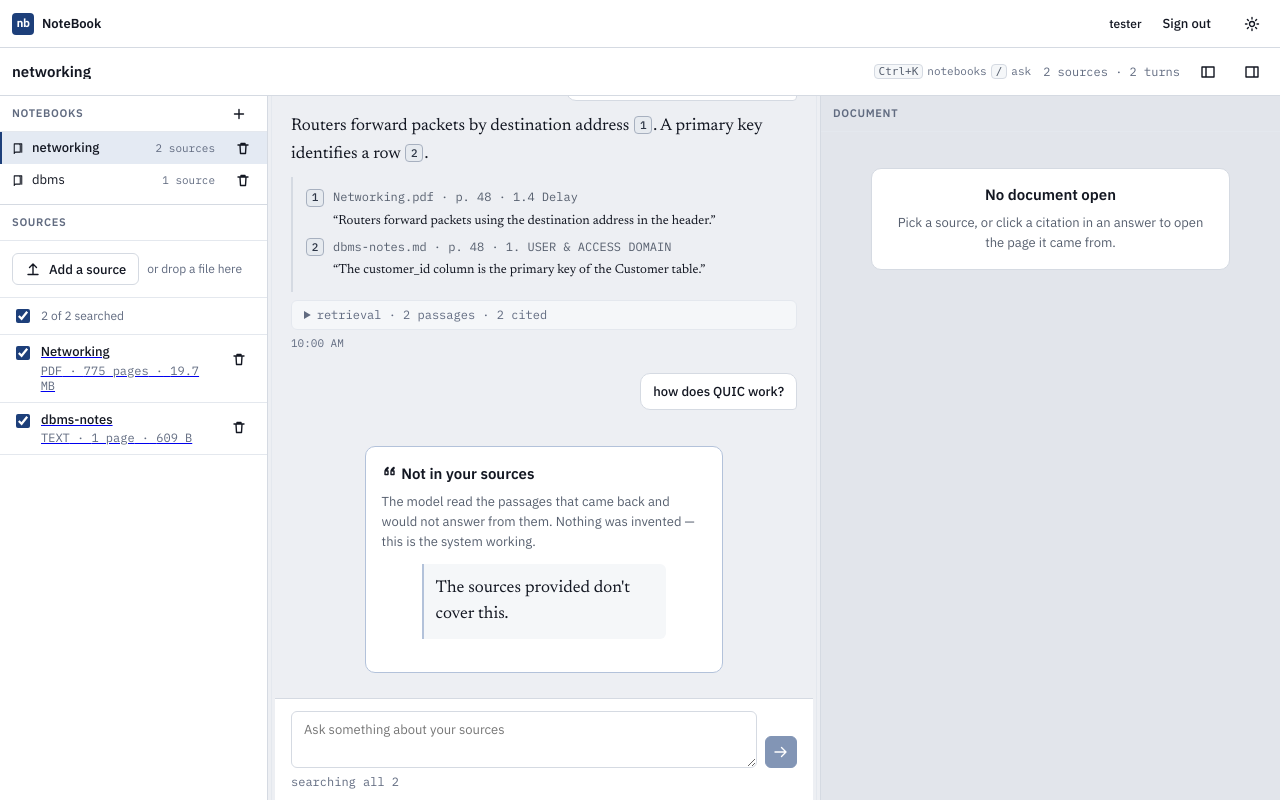
Test: asking a question › keeps the typed question and offers a retry when the request fails
The width and height of the screenshot is (1280, 800).
(page scrolled)
Expected: the text "2 of 2 searched" is shown, [41, 310, 124, 322]
Step 1. Type "this will fail" into the text box named "Your question" → [524, 740], box [291, 711, 757, 768]
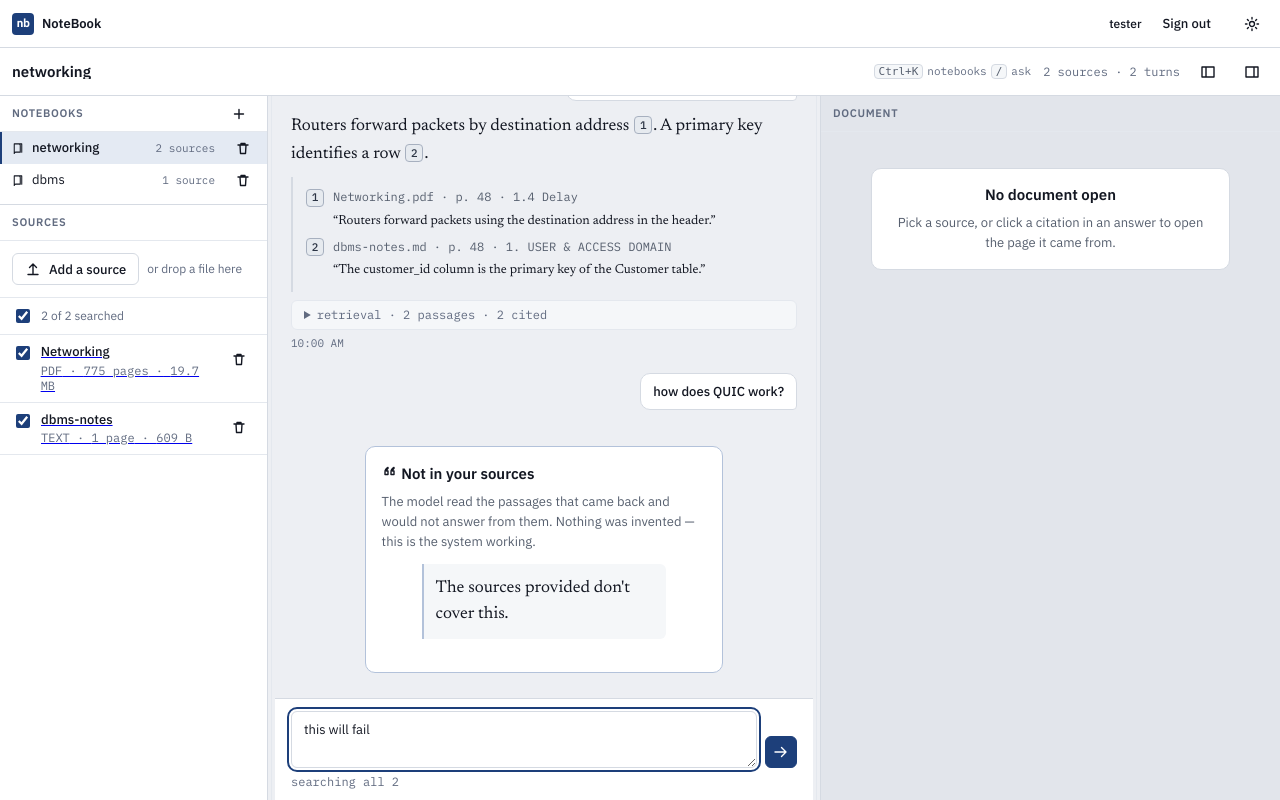
Step 2. Click the button named "Send" → [781, 752], box [765, 736, 797, 768]
(page scrolled)
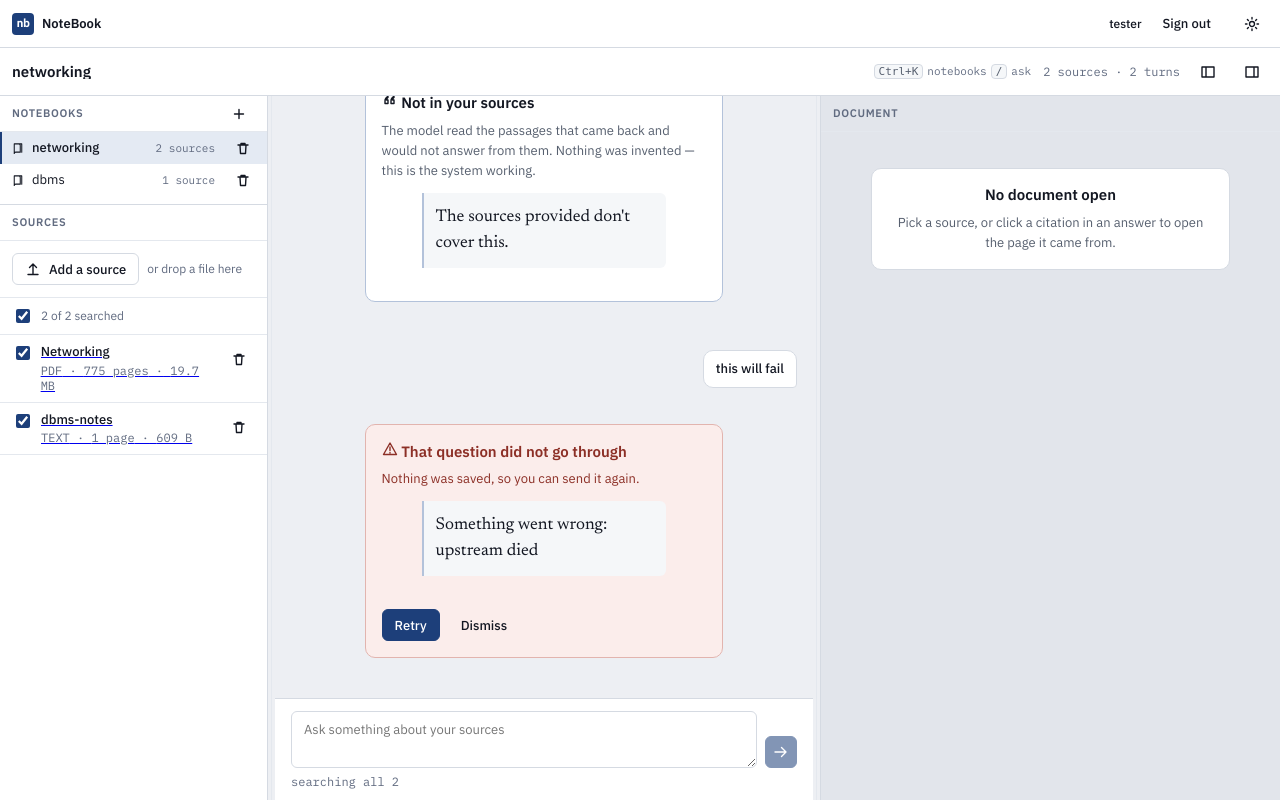
Expected: the text "That question did not go through" is shown, [382, 440, 627, 461]
Expected: the text "this will fail" is shown, [716, 359, 784, 378]
Expected: the button "Retry" is shown, [382, 609, 440, 641]
